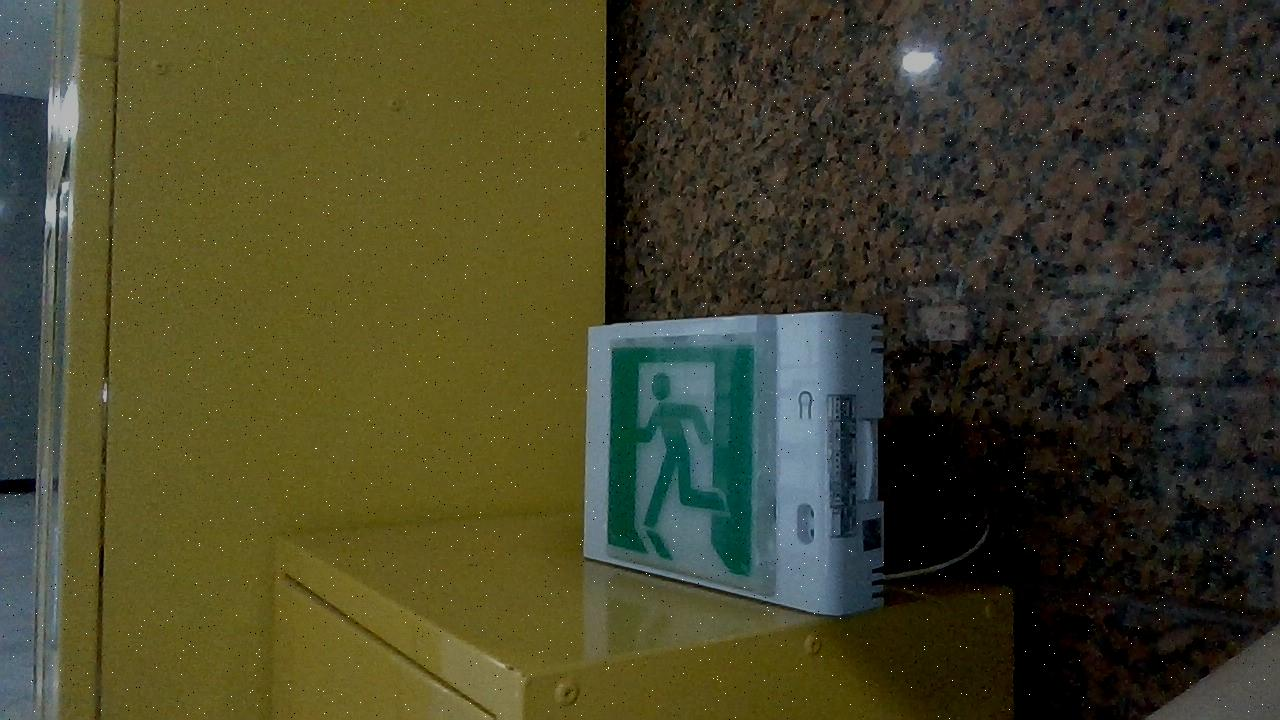emergency_exit: (581, 310, 887, 618)
